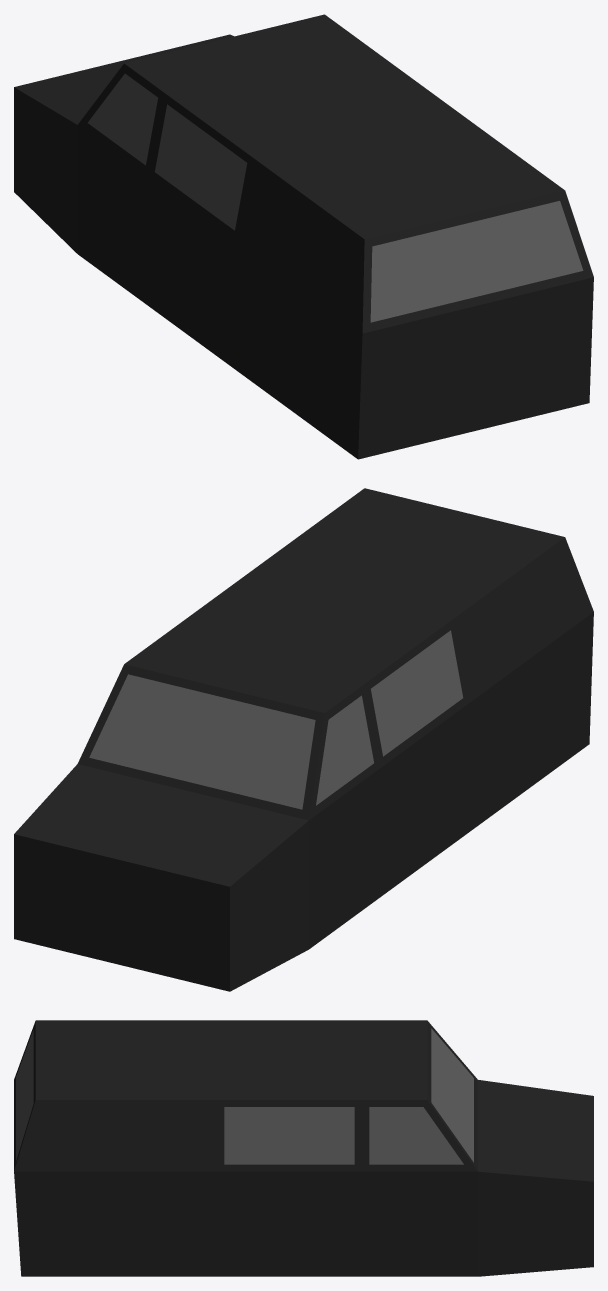
The model's file is van_far.glb.
3 views of the same model, one above another, from view 1: azimuth 30°, elevation 25°; view 2: azimuth 150°, elevation 25°; view 3: azimuth 270°, elevation 25° (orthographic). The views are drawn at different scales.
Visible parts, largest first — view 1: vehicles/van_far; view 2: vehicles/van_far; view 3: vehicles/van_far.
Part boxes in pixels (left/top/right/bottom): vehicles/van_far: left=14, top=14, right=593, bottom=459; vehicles/van_far: left=14, top=488, right=593, bottom=991; vehicles/van_far: left=14, top=1020, right=593, bottom=1276.
Size of the model in its own units: 1.88 by 1.62 by 5.
Materials: 2 (2 with a texture image).
